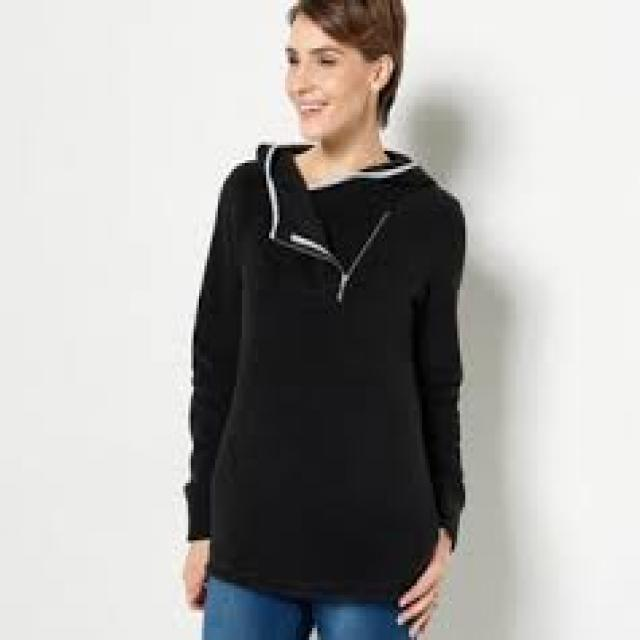plain: (187, 140, 470, 613)
